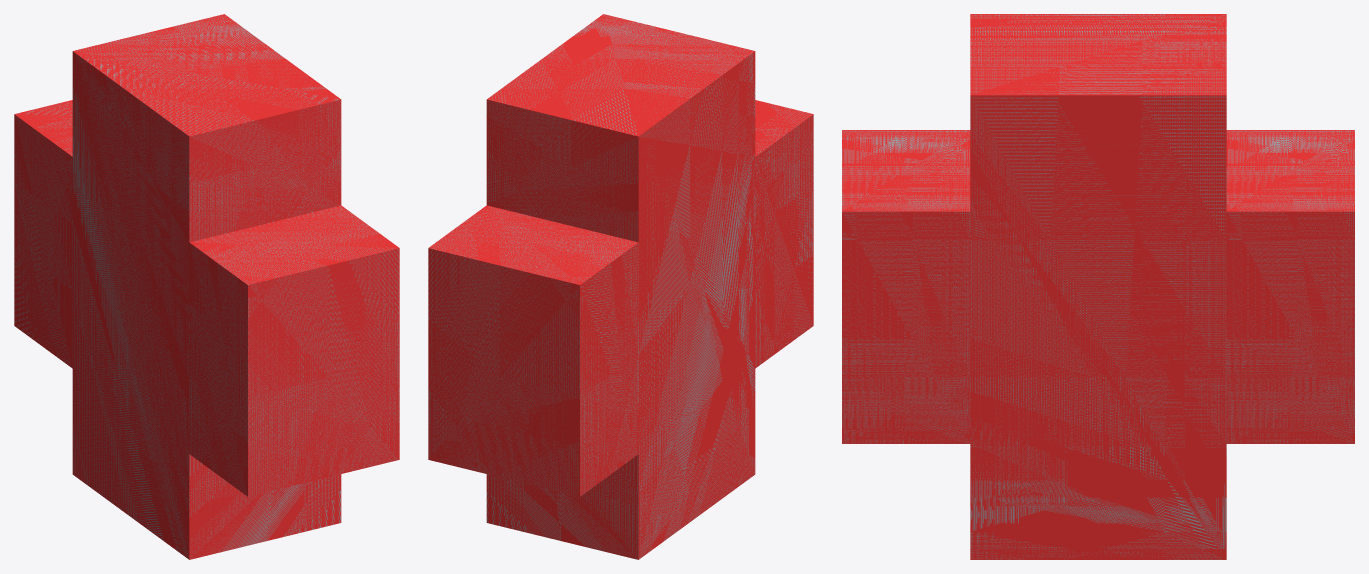
The model's file is healthPickup.dae.
3 views of the same model, side by side, from view 1: azimuth 30°, elevation 25°; view 2: azimuth 150°, elevation 25°; view 3: azimuth 270°, elevation 25° (orthographic). The views are drawn at different scales.
Visible parts, largest first — view 1: SketchUp; view 2: SketchUp; view 3: SketchUp.
Boxes of the visible parts, x1=… form: SketchUp: x1=14, y1=14, x2=399, y2=559; SketchUp: x1=428, y1=14, x2=813, y2=559; SketchUp: x1=842, y1=14, x2=1354, y2=559.
Size of the model in its own units: 38.58 by 103 by 103.
